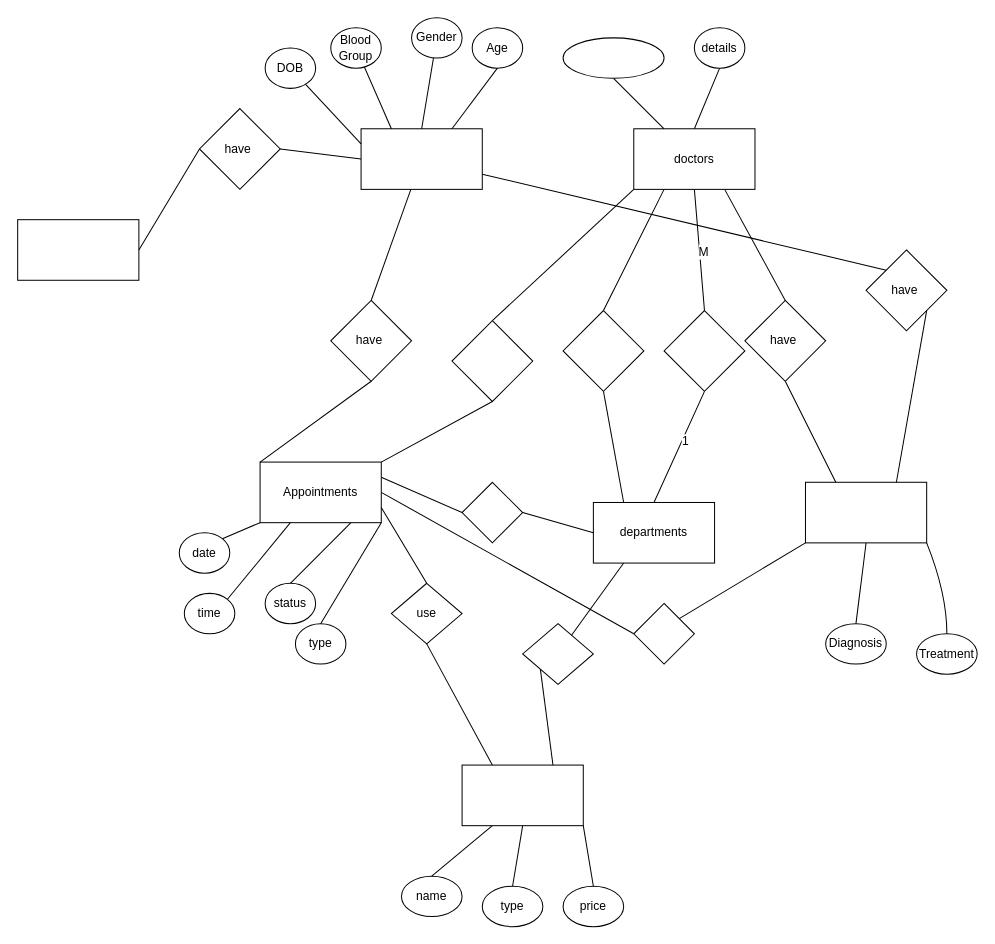
Some shapes in this 995 by 944 pixel diagram are drawn without their labels. The centre of each missing label's shape, as x and y in pixels:
Bills: (x=78, y=249)
handles: (x=492, y=360)
include: (x=492, y=512)
Manage: (x=603, y=350)
offers: (x=557, y=653)
patients: (x=421, y=158)
Records: (x=865, y=512)
result: (x=663, y=633)
services: (x=522, y=795)
specialization: (x=613, y=57)
works: (x=704, y=350)
